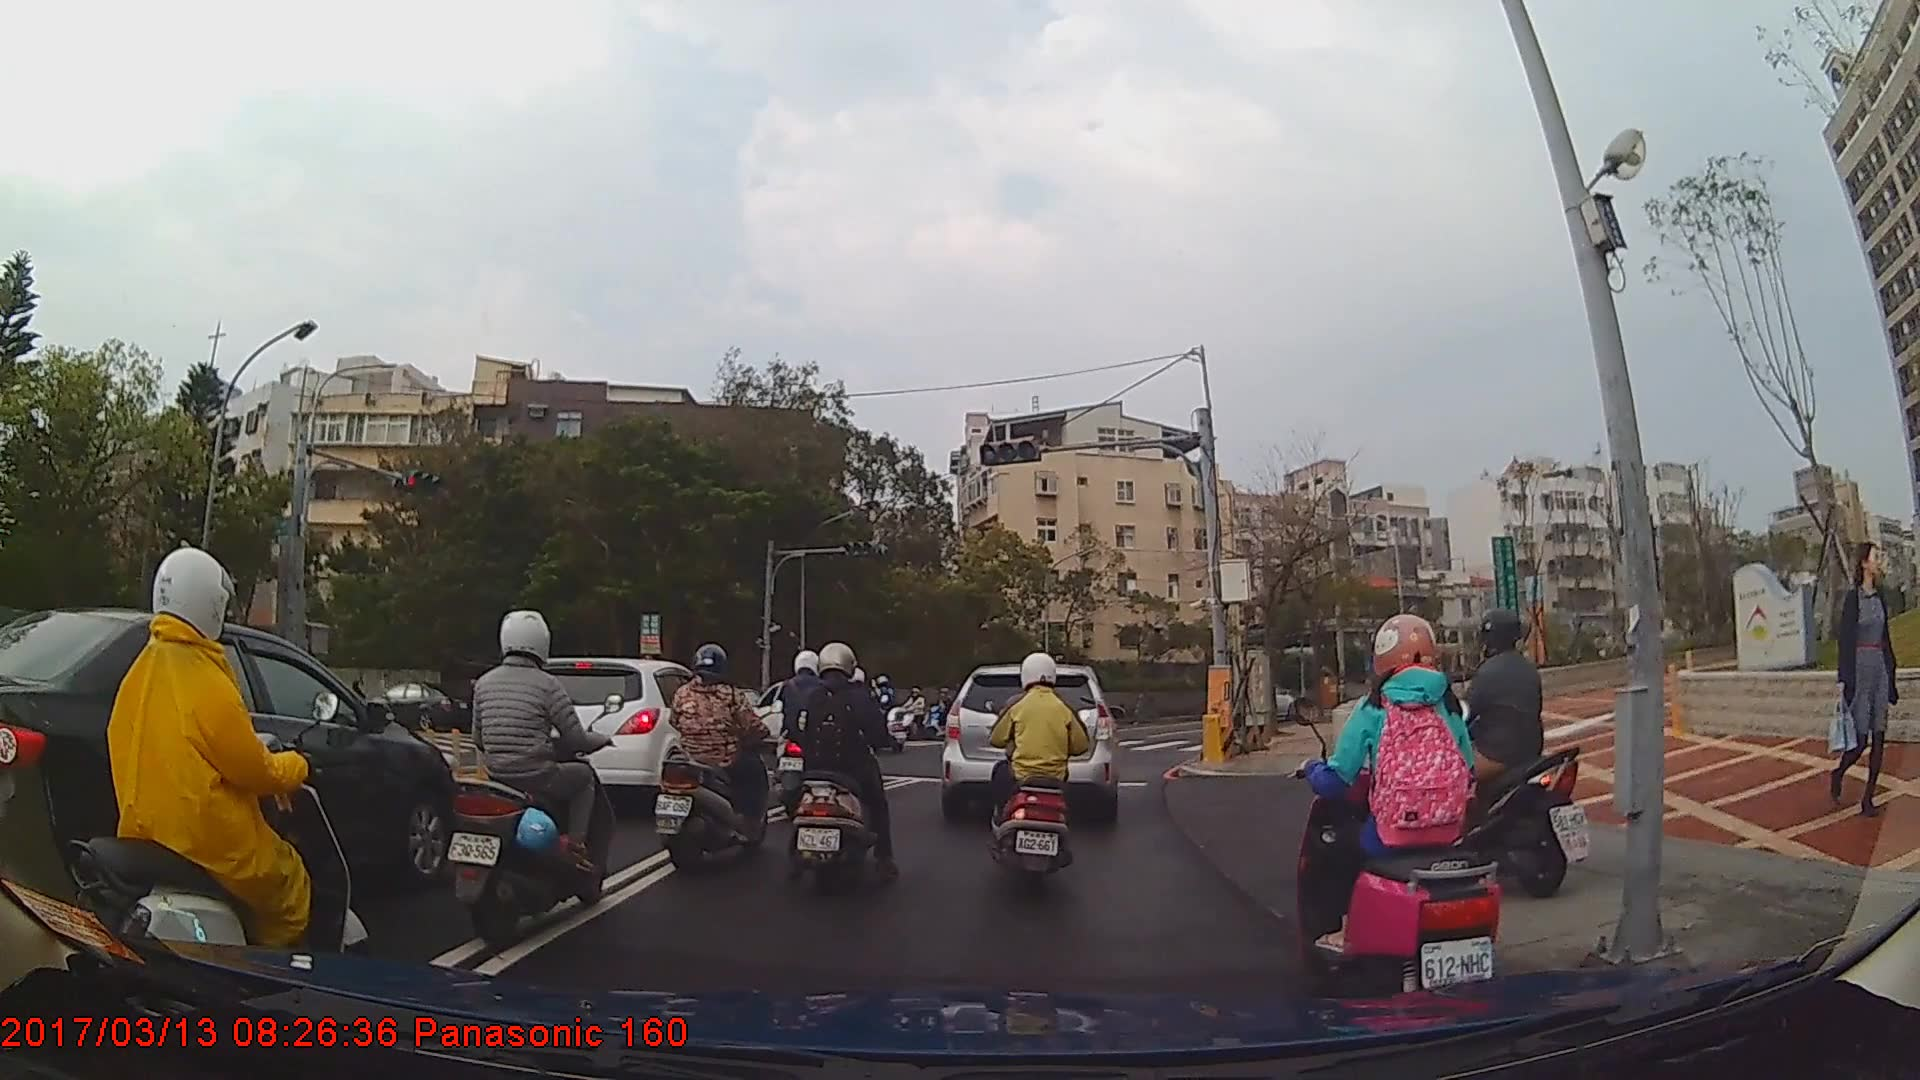pedestrian: (1840, 541, 1905, 815)
rider: (67, 544, 369, 1007), (1300, 614, 1506, 1003), (446, 606, 619, 953), (1410, 616, 1578, 902), (782, 639, 902, 901), (653, 642, 777, 877), (990, 649, 1094, 890), (770, 648, 843, 819)
vehicle: (0, 604, 462, 949), (516, 657, 749, 817), (936, 663, 1120, 822), (364, 681, 471, 731)
